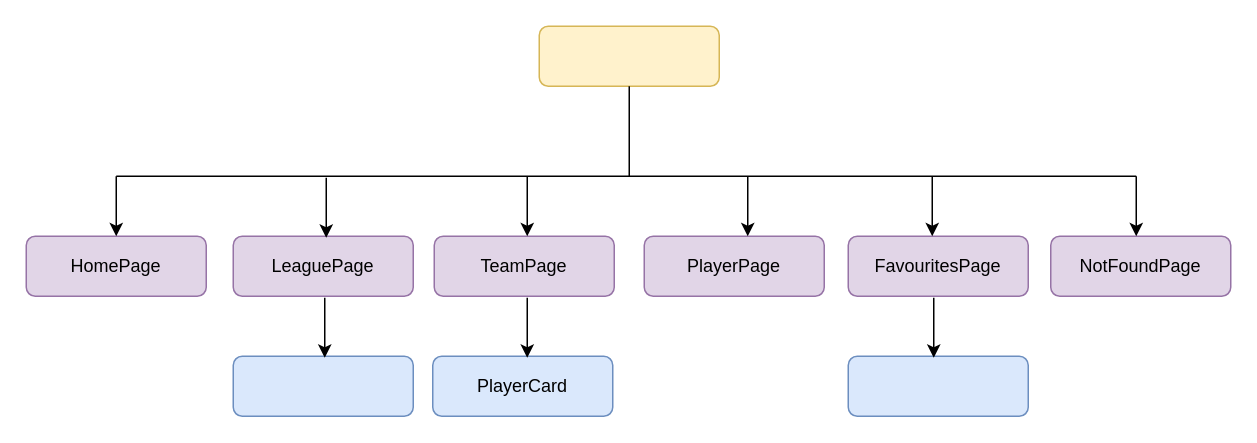
Image size: 1257x443. Some labels were removed from this diagram. The shapes that lost their labels are listed below. From the top down, each one's centre as x and y in pixels, then its label:
pixel 628 55: App
pixel 322 385: TeamStatistics
pixel 937 385: RemovePlayerModal
